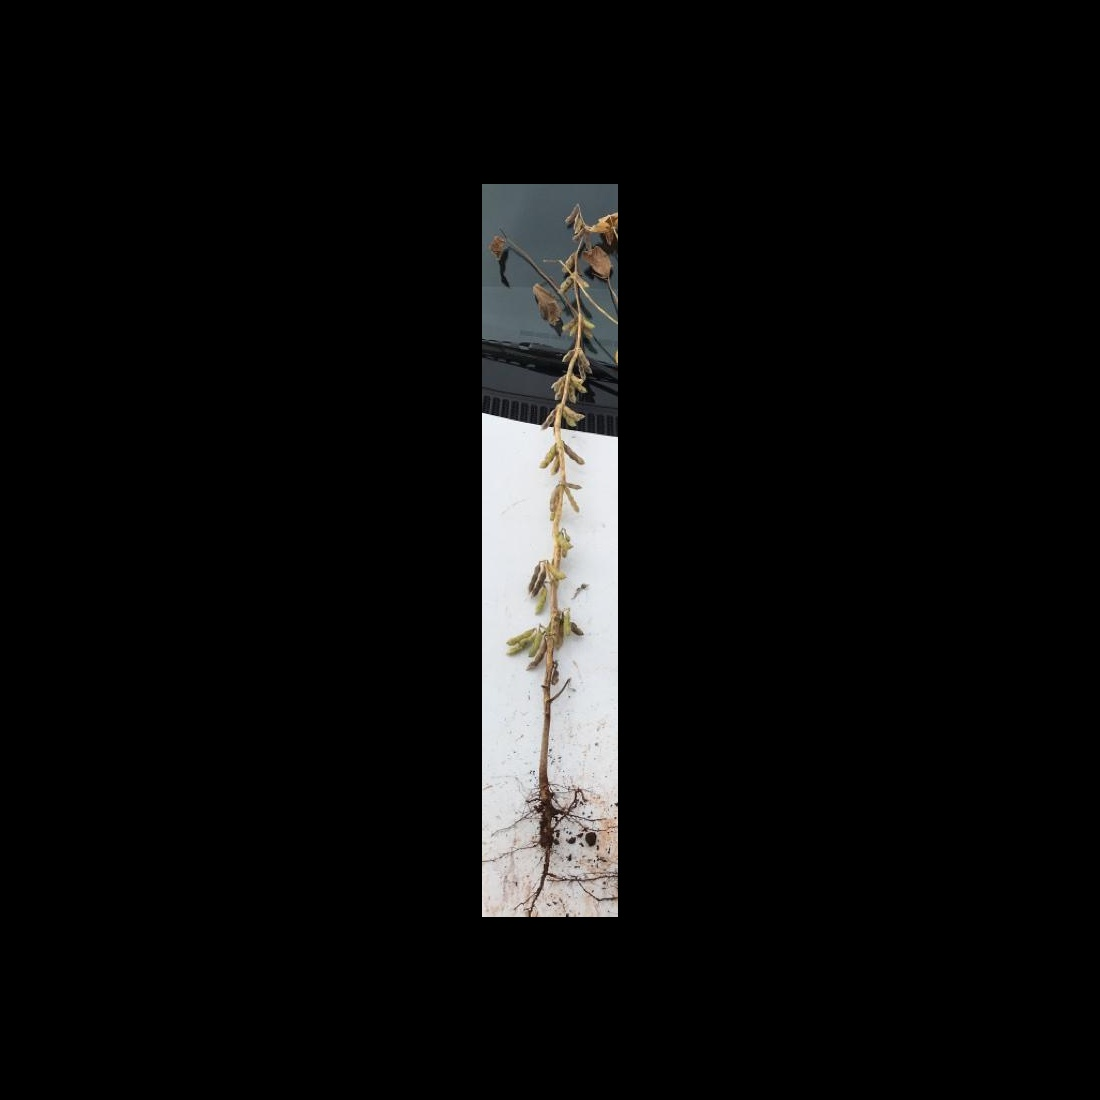pod: (564, 441, 586, 466), (566, 488, 581, 514), (529, 632, 542, 658), (536, 586, 546, 618), (548, 565, 568, 580), (571, 621, 587, 638), (565, 610, 571, 637)
soy: (493, 207, 613, 891)
